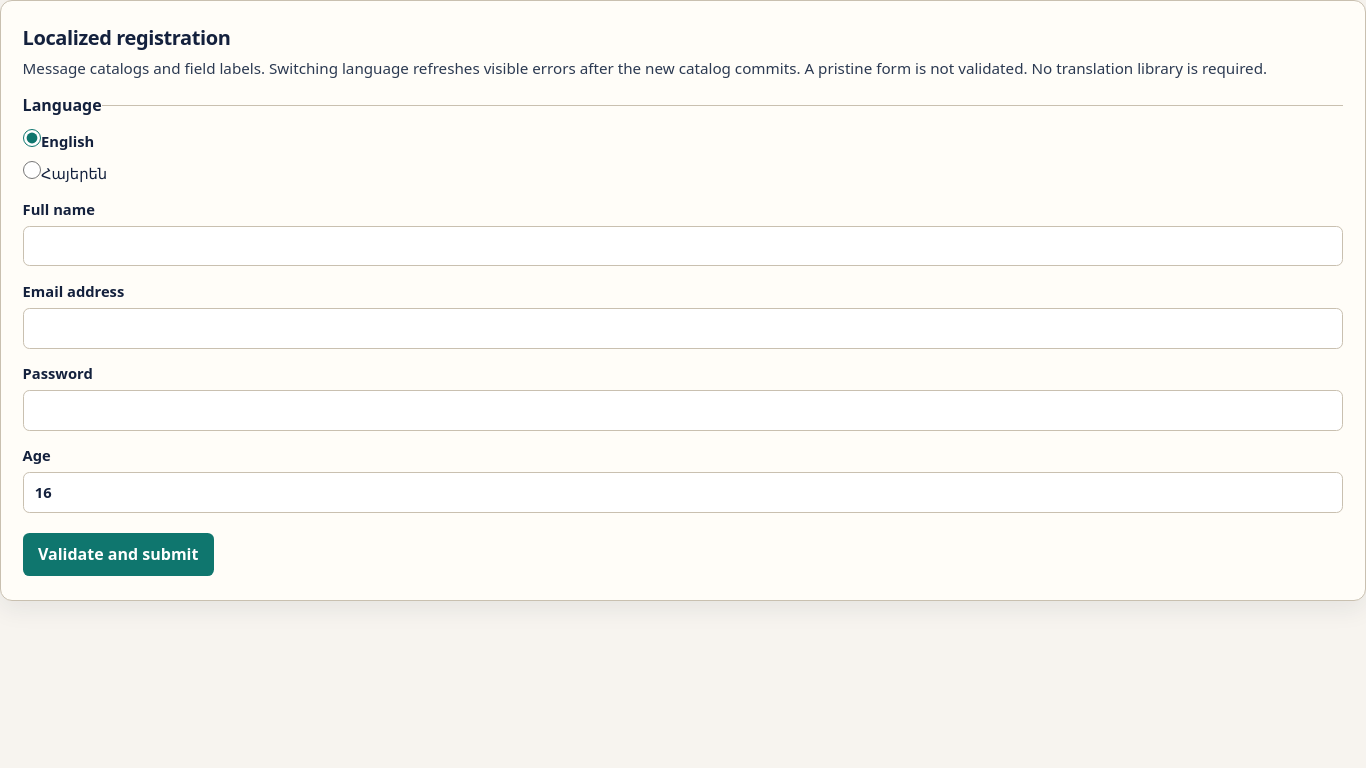
Scenario: LocalizedRegistrationForm › rewrites Armenian errors to English after a locale switch
This screenshot has width=1366, height=768.
Click the button "Validate and submit": (118, 555) [23,533,214,576]
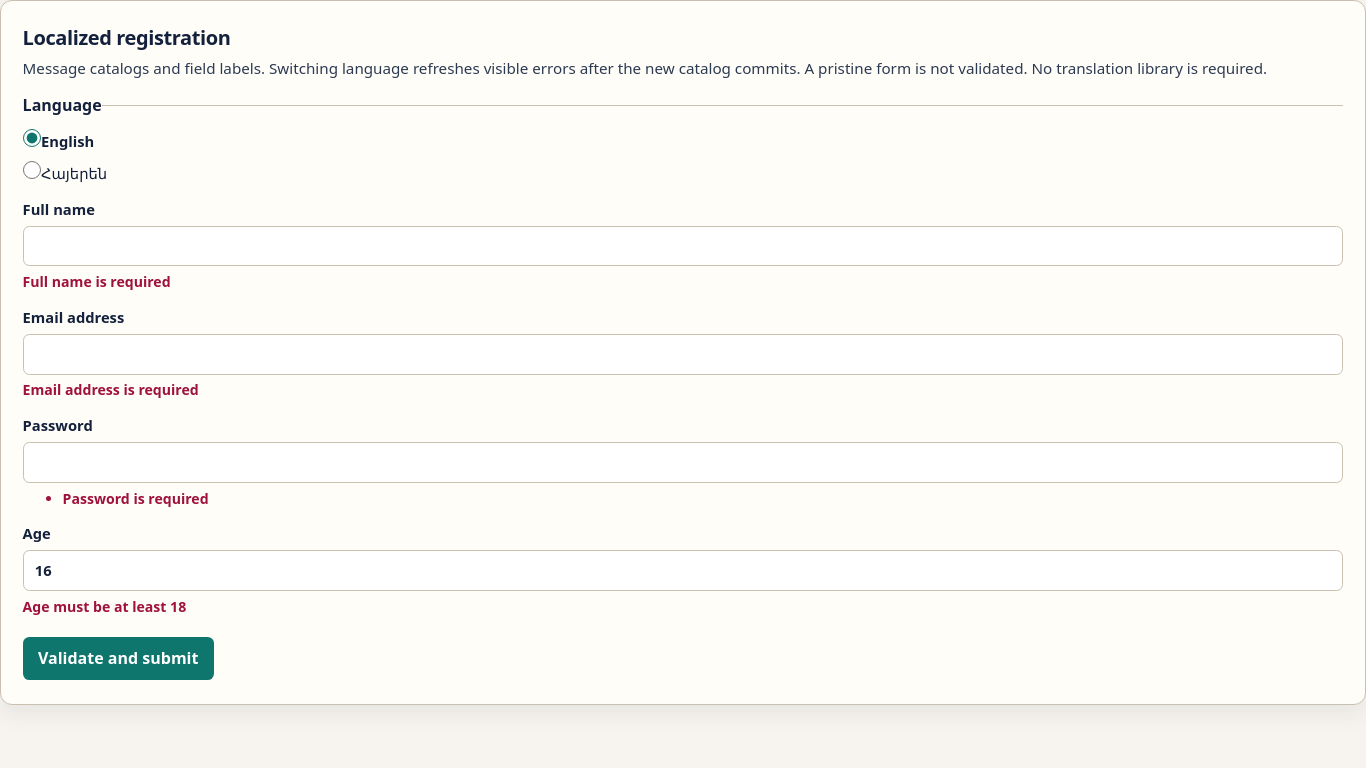
Expected: the text "Full name is required" is shown, [23,272,171,291]
Click the radio button labelled "Հայերեն": (32, 170) [23,160,41,179]
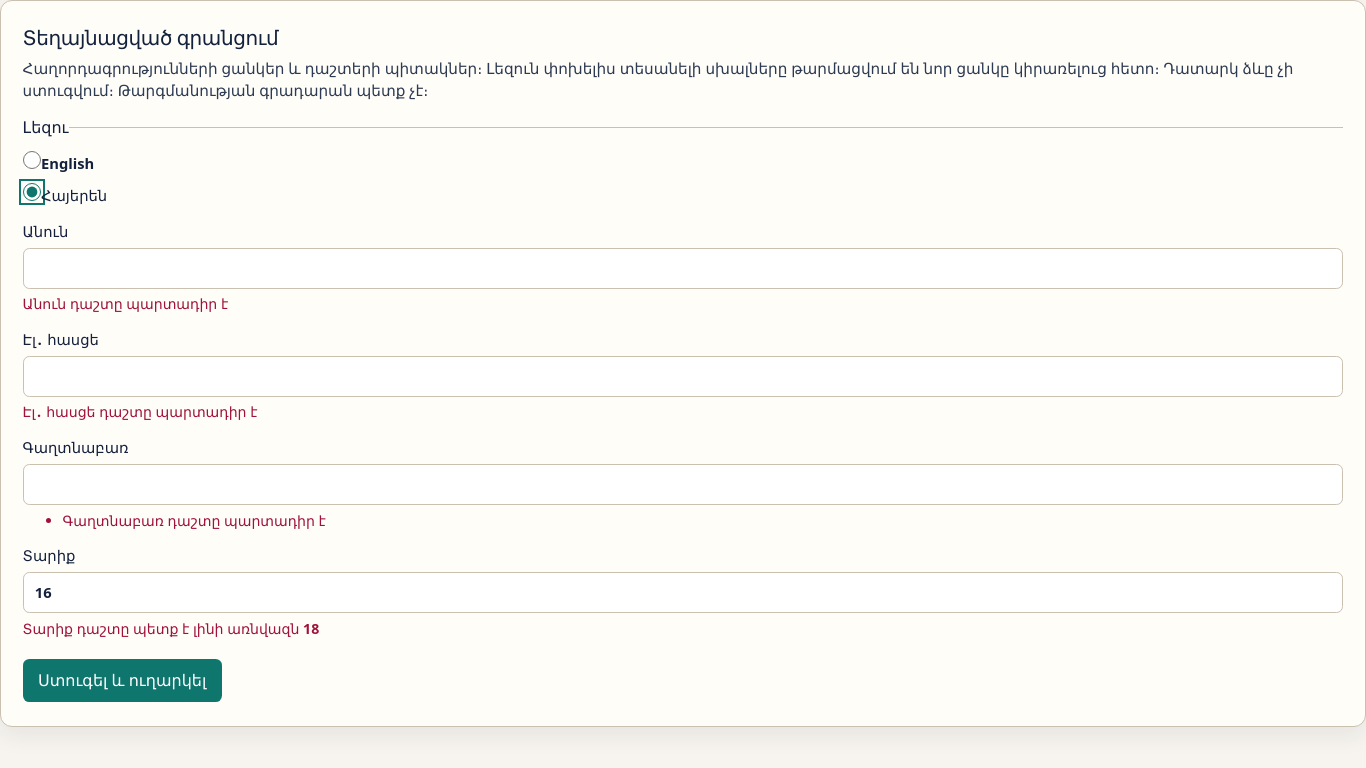
Expected: the text "Անուն դաշտը պարտադիր է" is shown, [23,294,228,313]
Click the radio button labelled "English": (32, 160) [23,151,41,169]
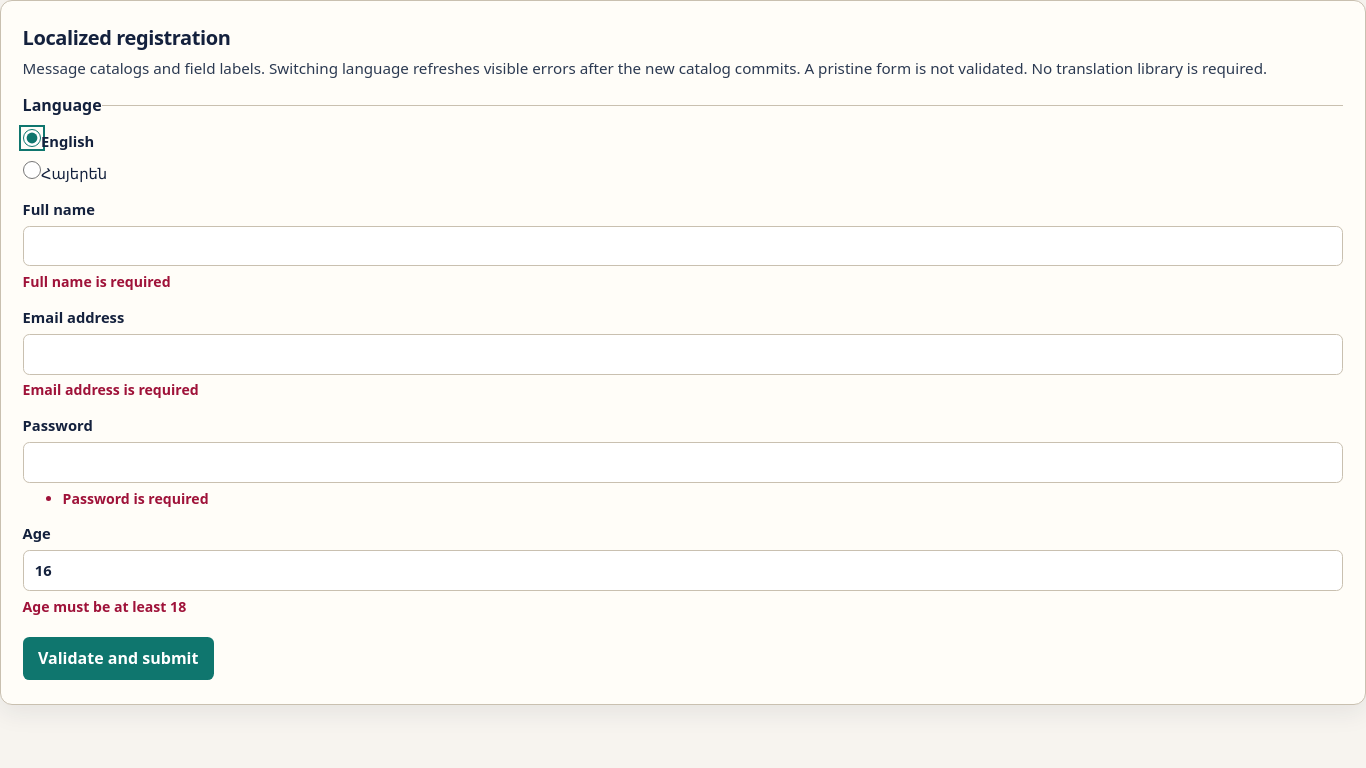
Expected: the text "Full name is required" is shown, [23,272,171,291]
Expected: the text "Անուն դաշտը պարտադիր է" is gone
